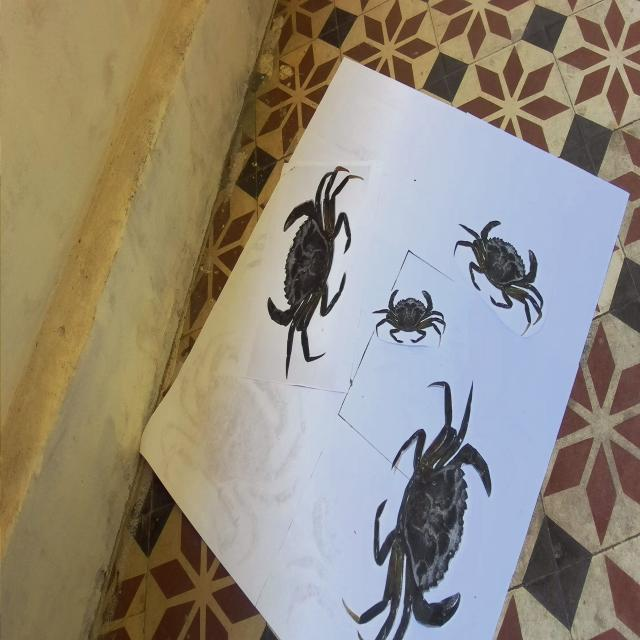European_Green_Crab: (257, 140, 364, 401), (447, 185, 556, 348), (371, 284, 447, 349), (0, 0, 0, 1)
